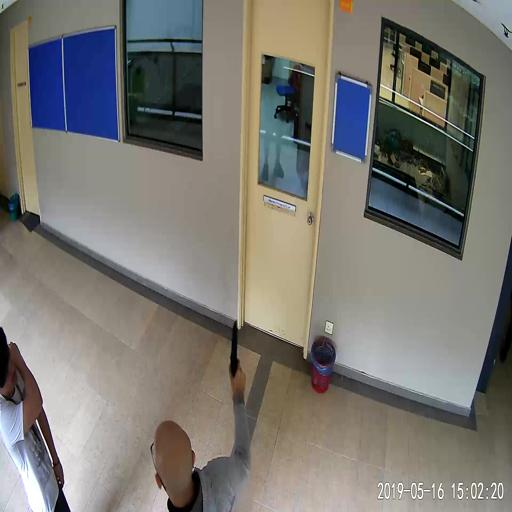pistol: (229, 320, 245, 387)
